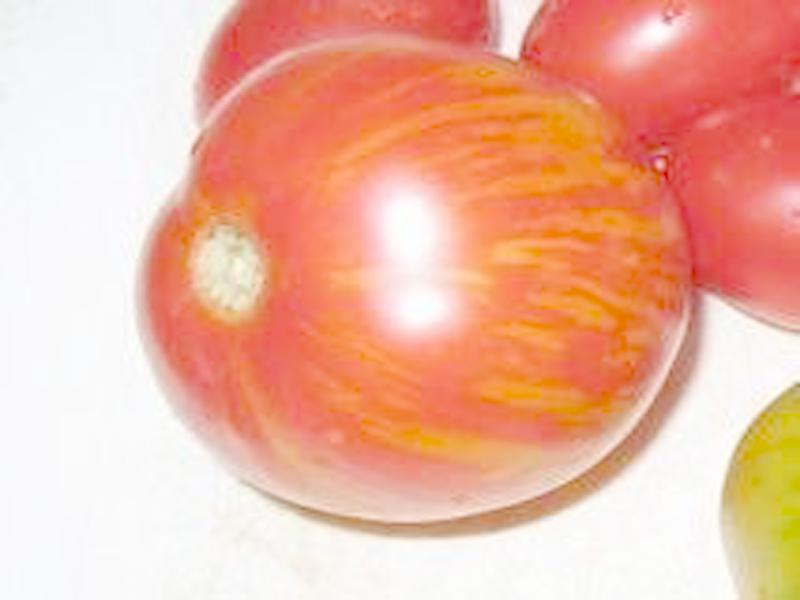Tomato: (128, 32, 695, 523)
